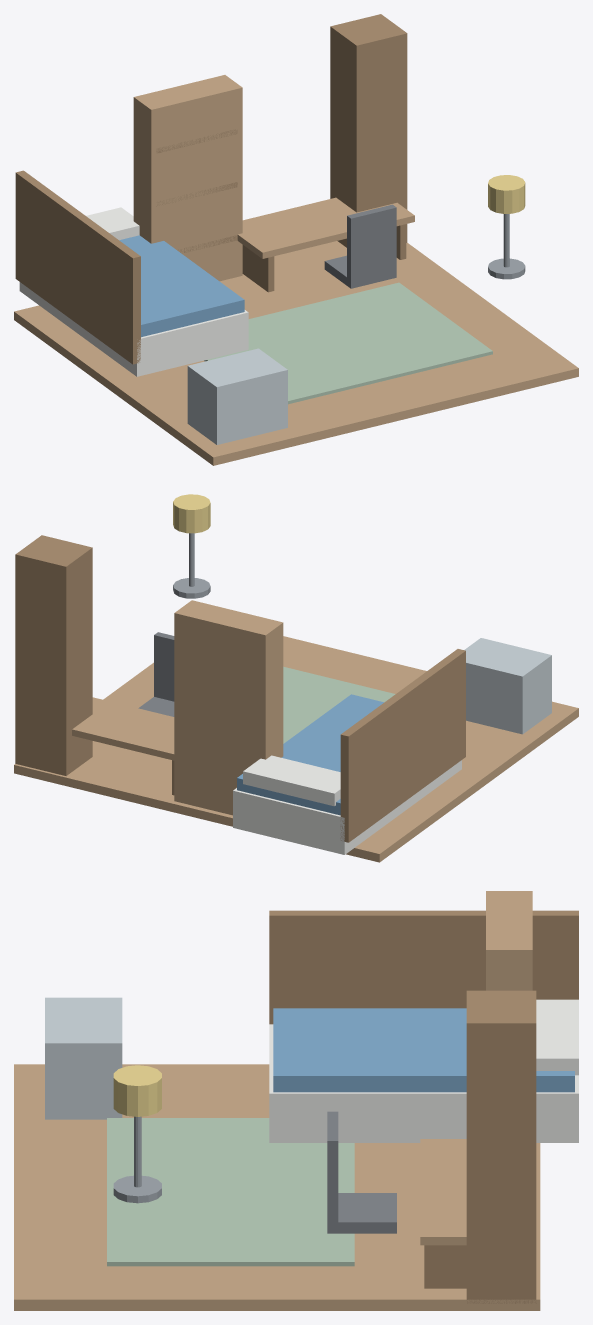
File: webtoon_one_room_furniture_cluster.glb
The picture shows the model from 3 angles, top to bottom: view 1: azimuth 30°, elevation 25°; view 2: azimuth 150°, elevation 25°; view 3: azimuth 270°, elevation 25°; orthographic projection. The views are drawn at different scales.
Parts seen in each view (by area): view 1: floor, bookshelf, rug, wardrobe, headboard, mini fridge, bedding, bed base, desk top, chair back, lamp shade, pillow (+3 smaller); view 2: bookshelf, floor, wardrobe, headboard, mini fridge, bed base, bedding, desk top, rug, pillow, chair back, lamp shade (+1 smaller); view 3: floor, rug, headboard, wardrobe, bedding, bed base, mini fridge, desk top, bookshelf, pillow, chair seat, lamp shade (+4 smaller).
Part boxes in pixels (x1,y1,x2,y2): floor: [14, 241, 578, 465]; bookshelf: [133, 75, 242, 281]; rug: [204, 282, 492, 404]; wardrobe: [330, 14, 407, 247]; headboard: [15, 170, 140, 364]; mini fridge: [187, 348, 287, 444]; bedding: [119, 235, 244, 337]; bed base: [19, 282, 248, 376]; desk top: [237, 197, 414, 258]; chair back: [347, 204, 396, 281]; lamp shade: [488, 175, 525, 213]; pillow: [86, 207, 139, 240]; bookshelf: [174, 600, 283, 815]; floor: [14, 636, 578, 862]; wardrobe: [15, 535, 92, 775]; headboard: [340, 649, 465, 842]; mini fridge: [464, 638, 551, 734]; bed base: [233, 760, 461, 854]; bedding: [237, 694, 383, 815]; desk top: [72, 697, 174, 760]; rug: [283, 666, 395, 743]; pillow: [243, 755, 340, 806]; chair back: [154, 632, 174, 701]; lamp shade: [173, 494, 210, 533]; floor: [14, 1064, 540, 1310]; rug: [107, 1118, 354, 1266]; headboard: [269, 910, 578, 1024]; wardrobe: [466, 990, 536, 1303]; bedding: [273, 1008, 574, 1092]; bed base: [269, 1024, 578, 1142]; mini fridge: [45, 997, 122, 1119]; desk top: [420, 1139, 466, 1245]; bookshelf: [486, 891, 532, 990]; pillow: [536, 999, 578, 1075]; chair seat: [327, 1193, 396, 1233]; lamp shade: [113, 1065, 161, 1116].
Size of the model in its own units: 3.6 by 2.05 by 3.65.
